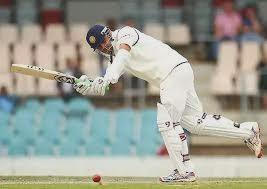batsman: (67, 16, 263, 189)
